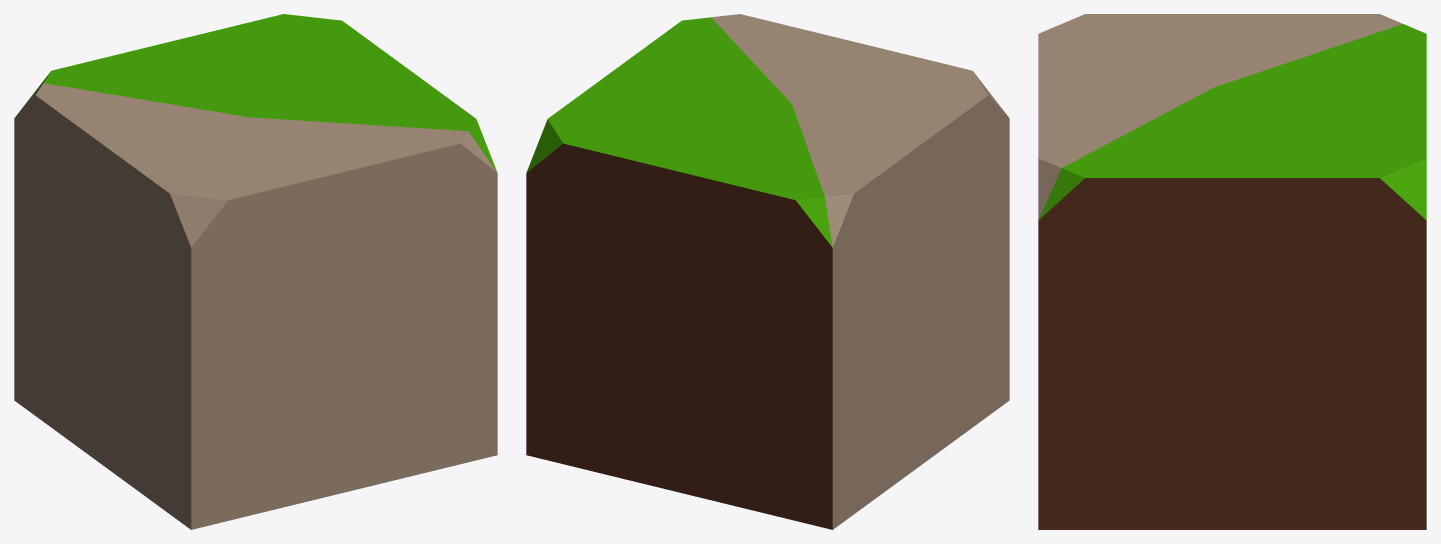
File: Tile_Grass_to_Rock_Corner.fbx
3 renders of one model, left to right at view 1: azimuth 30°, elevation 25°; view 2: azimuth 150°, elevation 25°; view 3: azimuth 270°, elevation 25°, orthographic. The views are drawn at different scales.
Visible parts, largest first — view 1: TIle_Grass_to_Rock_Corner; view 2: TIle_Grass_to_Rock_Corner; view 3: TIle_Grass_to_Rock_Corner.
Part boxes in pixels (x1,y1,x2,y2): TIle_Grass_to_Rock_Corner: [14, 14, 497, 529]; TIle_Grass_to_Rock_Corner: [526, 14, 1009, 529]; TIle_Grass_to_Rock_Corner: [1038, 14, 1426, 529].
Size of the model in its own units: 5 by 5 by 5.
